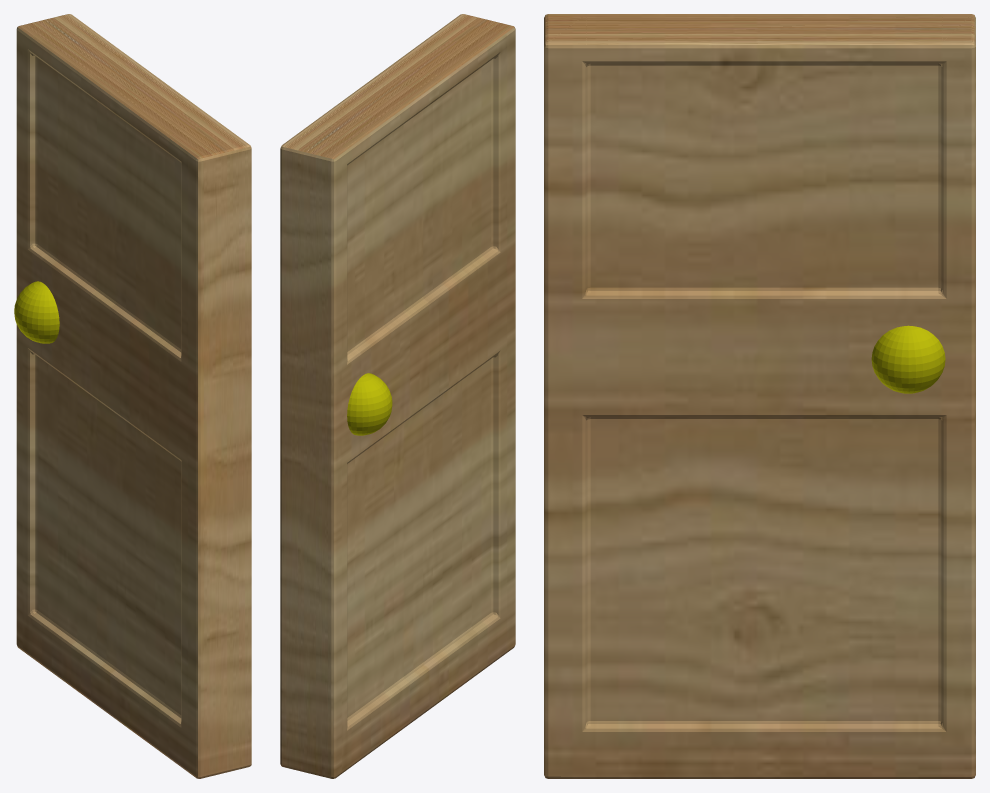
The model's file is Дверь.fbx.
The picture shows the model from 3 angles, left to right: view 1: azimuth 30°, elevation 25°; view 2: azimuth 150°, elevation 25°; view 3: azimuth 270°, elevation 25°; orthographic projection. The views are drawn at different scales.
Visible parts, largest first — view 1: Cube; view 2: Cube; view 3: Cube.
Boxes of the visible parts, bbox=[...] form: Cube: bbox=[14, 14, 251, 778]; Cube: bbox=[280, 14, 515, 778]; Cube: bbox=[544, 14, 975, 778].
Bounding box in the file's own units: 370 × 2145 × 1140.
Materials: 3 (1 with a texture image).
